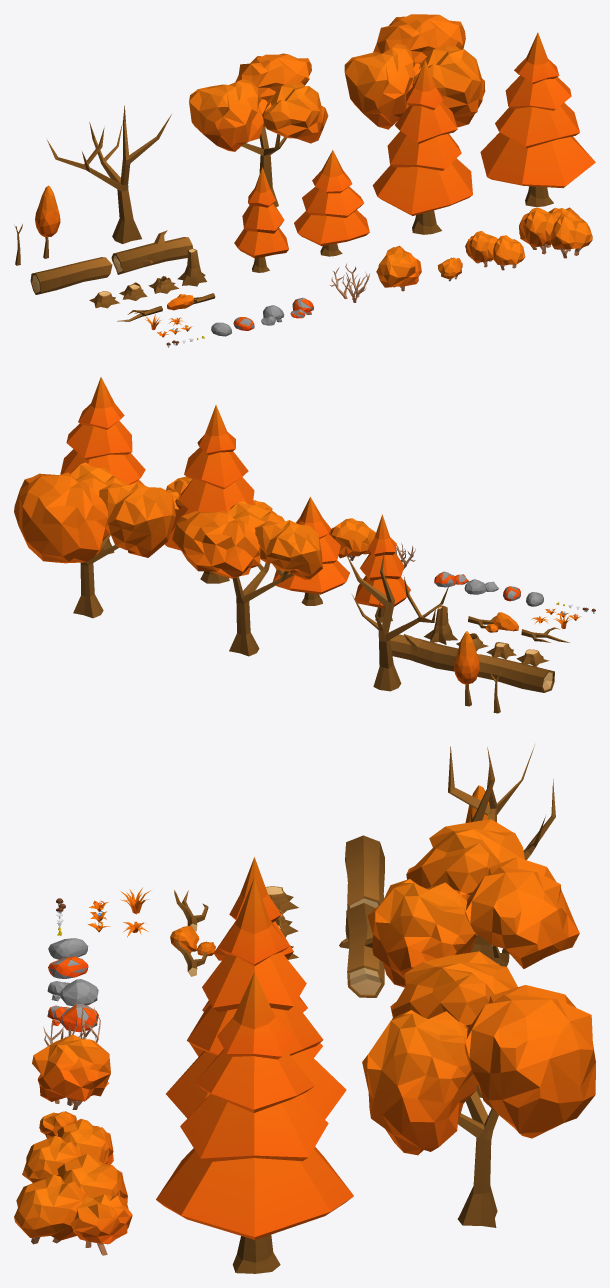
The model's file is Arbol_Hojas3_naranja.fbx.
3 views of the same model, one above another, from view 1: azimuth 30°, elevation 25°; view 2: azimuth 150°, elevation 25°; view 3: azimuth 270°, elevation 25° (orthographic). The views are drawn at different scales.
Visible parts, largest first — view 1: Tree_average_lush, Tree_Spruce_small_02, Tree_average_regular, Tree_Spruce_small_01, Tree_Spruce_tiny_02, Tree_Spruce_tiny_01, Tree_average_bare, Bush_group_big, Log_big_knotty, Log_big_regular, Bush_group_average, Bush_average (+4 smaller); view 2: Tree_average_lush, Tree_average_regular, Tree_Spruce_small_01, Tree_Spruce_small_02, Tree_Spruce_tiny_02, Tree_average_bare, Tree_Spruce_tiny_01, Log_big_regular, Log_big_knotty, Bush_average, Tree_small_regular, Stump_average_high (+1 smaller); view 3: Tree_average_lush, Tree_Spruce_small_02, Tree_average_regular, Tree_Spruce_small_01, Bush_group_big, Bush_average, Bush_group_average, Log_big_knotty, Log_big_regular, Tree_average_bare, Tree_Spruce_tiny_01, Branch_average_leaves (+3 smaller).
Boxes of the visible parts, <box> form: Tree_average_lush: <box>344,14,485,129</box>; Tree_Spruce_small_02: <box>480,32,595,207</box>; Tree_average_regular: <box>189,53,328,207</box>; Tree_Spruce_small_01: <box>372,60,472,234</box>; Tree_Spruce_tiny_02: <box>294,150,369,256</box>; Tree_Spruce_tiny_01: <box>234,167,288,272</box>; Tree_average_bare: <box>47,105,171,243</box>; Bush_group_big: <box>519,207,592,258</box>; Log_big_knotty: <box>111,230,192,274</box>; Log_big_regular: <box>30,257,112,294</box>; Bush_group_average: <box>465,231,525,270</box>; Bush_average: <box>376,245,421,291</box>; Tree_average_lush: <box>14,462,175,618</box>; Tree_average_regular: <box>172,501,322,656</box>; Tree_Spruce_small_01: <box>165,405,254,583</box>; Tree_Spruce_small_02: <box>60,377,145,554</box>; Tree_Spruce_tiny_02: <box>273,497,349,605</box>; Tree_average_bare: <box>346,552,449,691</box>; Tree_Spruce_tiny_01: <box>355,514,410,622</box>; Log_big_regular: <box>477,654,554,692</box>; Log_big_knotty: <box>390,634,458,671</box>; Bush_average: <box>329,518,375,560</box>; Tree_small_regular: <box>454,631,479,706</box>; Stump_average_high: <box>424,605,457,644</box>; Tree_average_lush: <box>362,951,595,1227</box>; Tree_Spruce_small_02: <box>156,972,353,1273</box>; Tree_average_regular: <box>367,819,579,1097</box>; Tree_Spruce_small_01: <box>166,877,346,1119</box>; Bush_group_big: <box>14,1153,132,1255</box>; Bush_average: <box>32,1034,110,1109</box>; Bush_group_average: <box>22,1119,113,1182</box>; Log_big_knotty: <box>339,903,384,997</box>; Log_big_regular: <box>345,835,384,909</box>; Tree_average_bare: <box>448,745,555,964</box>; Tree_Spruce_tiny_01: <box>213,857,293,960</box>; Branch_average_leaves: <box>170,925,215,976</box>.
Size of the model in its own units: 5841 by 1832 by 3295.
